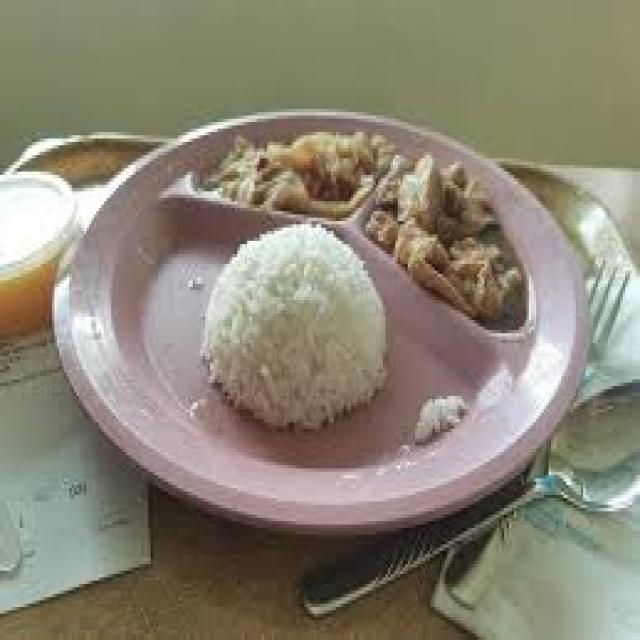Rice: (200, 224, 385, 426)
